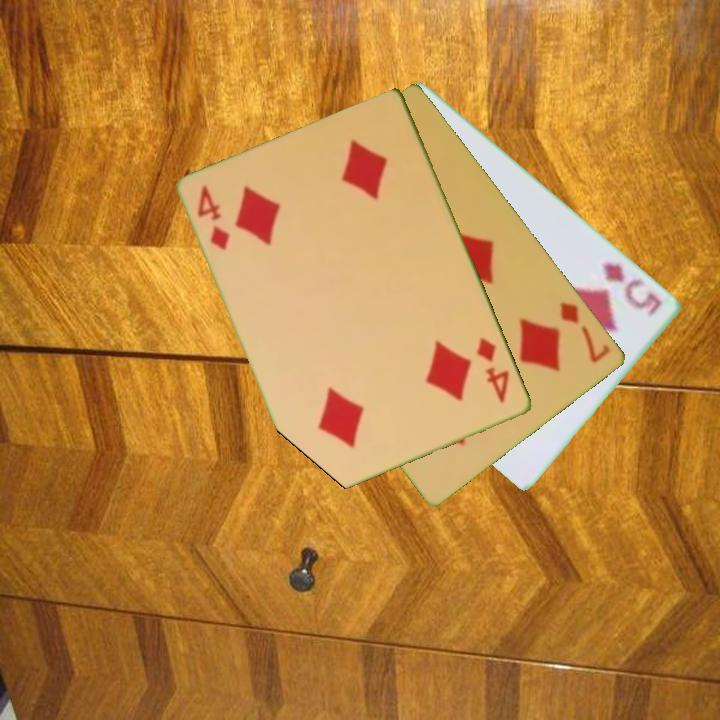4d: (473, 334, 513, 406), (194, 182, 233, 254)
5d: (598, 258, 666, 320)
7d: (557, 298, 614, 366)
